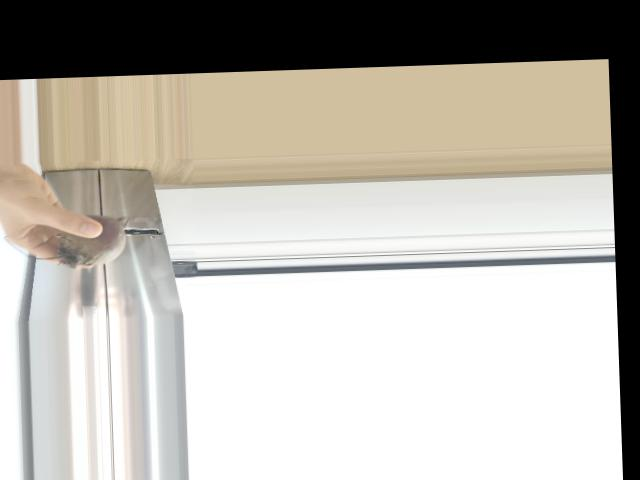beet: (4, 213, 138, 270)
